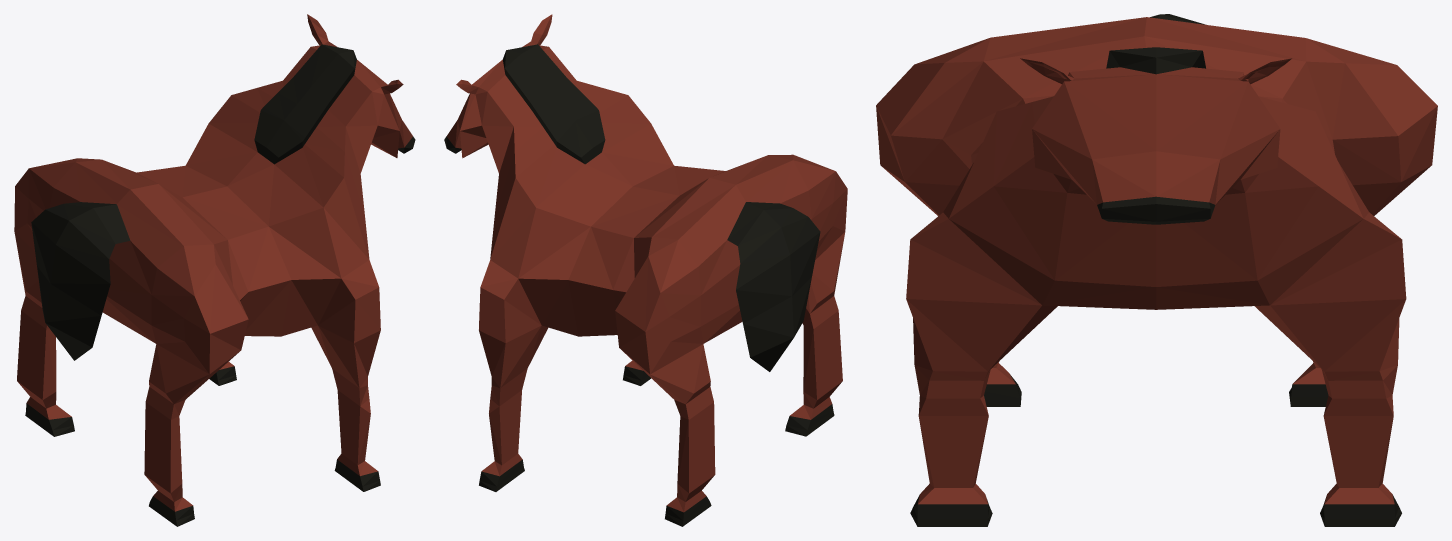
File: shire-horse.glb
3 renders of one model, left to right at view 1: azimuth 30°, elevation 25°; view 2: azimuth 150°, elevation 25°; view 3: azimuth 270°, elevation 25°, orthographic. The views are drawn at different scales.
Bounding box in the file's own units: 1 × 1 × 1.
